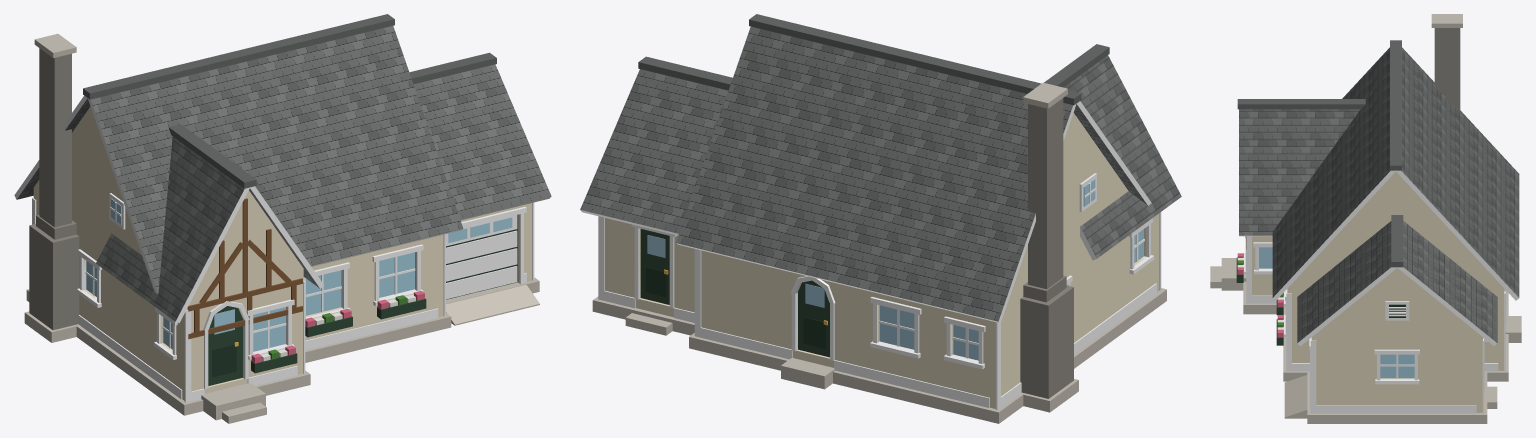
File: base-08-level2.glb
The picture shows the model from 3 angles, left to right: view 1: azimuth 30°, elevation 25°; view 2: azimuth 150°, elevation 25°; view 3: azimuth 270°, elevation 25°; orthographic projection. The views are drawn at different scales.
Parts seen in each view (by area): view 1: base_house_8_finished, piece_garage; view 2: base_house_8_finished, piece_garage; view 3: base_house_8_finished, piece_garage.
Part boxes in pixels (x1,y1,x2,y2): base_house_8_finished: (14,14,463,423); piece_garage: (409,52,551,325); base_house_8_finished: (676,14,1181,423); piece_garage: (580,56,732,335); base_house_8_finished: (1210,14,1521,381); piece_garage: (1284,215,1497,423).
Size of the model in its own units: 14.49 by 9.29 by 10.9.
Materials: 15 (1 with a texture image).
